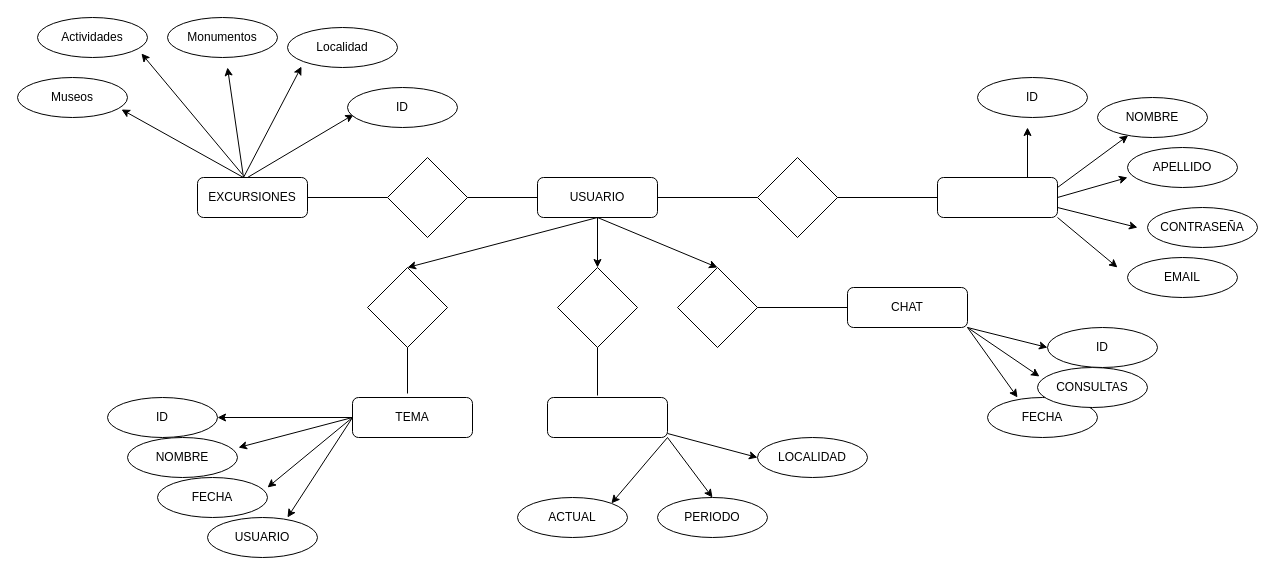
Some shapes in this 1275 by 575 pixel diagram are drawn without their labels. Each missing label, with the centre of its shape:
CLIENTE: (997,197)
CLIMA: (607,417)
CONSULTA: (597,307)
ELIGE: (427,197)
ESCRIBE: (717,307)
POSTEA: (407,307)
REGISTRA: (797,197)
